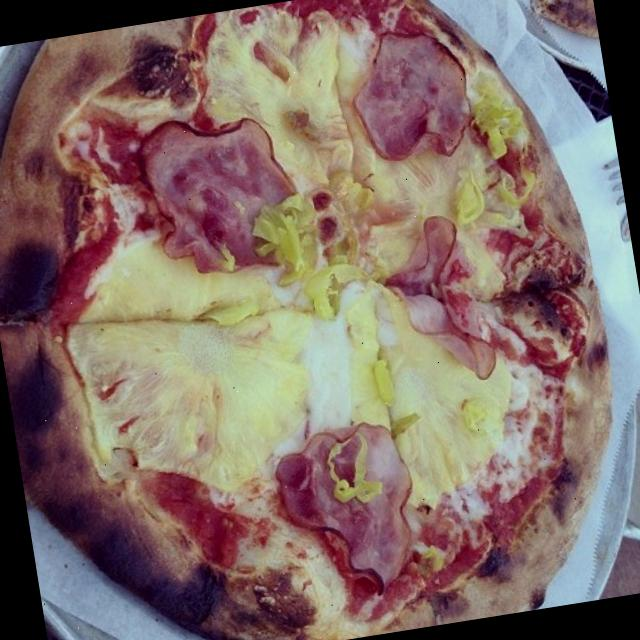pizza: (0, 0, 608, 640)
